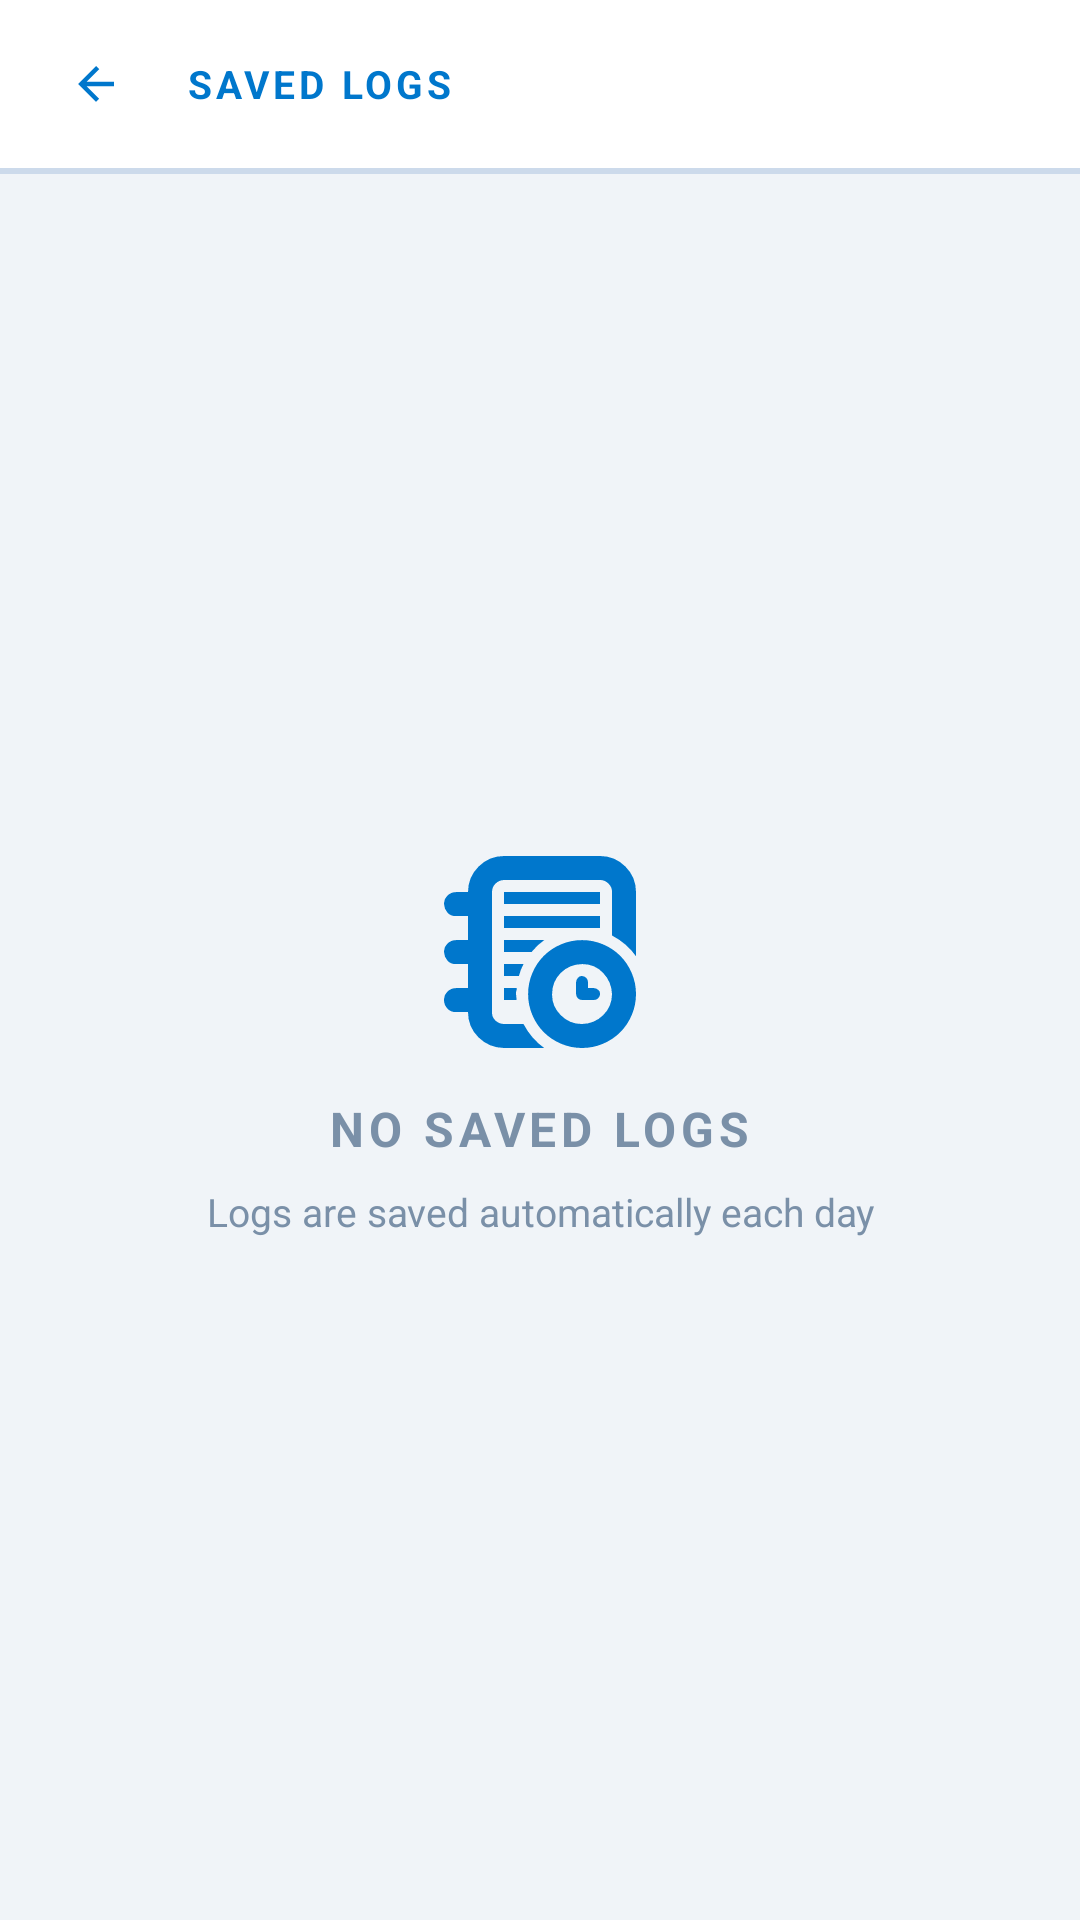

Where to tap for icons on this 1080*1920 app screen, as (x,y):
back: (96,84)
